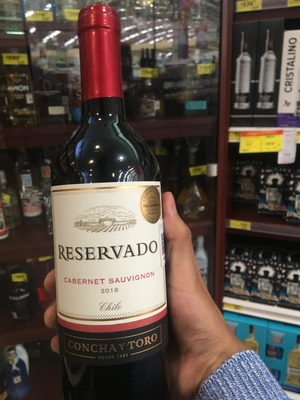reservado cabernet sauvignon: (50, 12, 193, 400)
